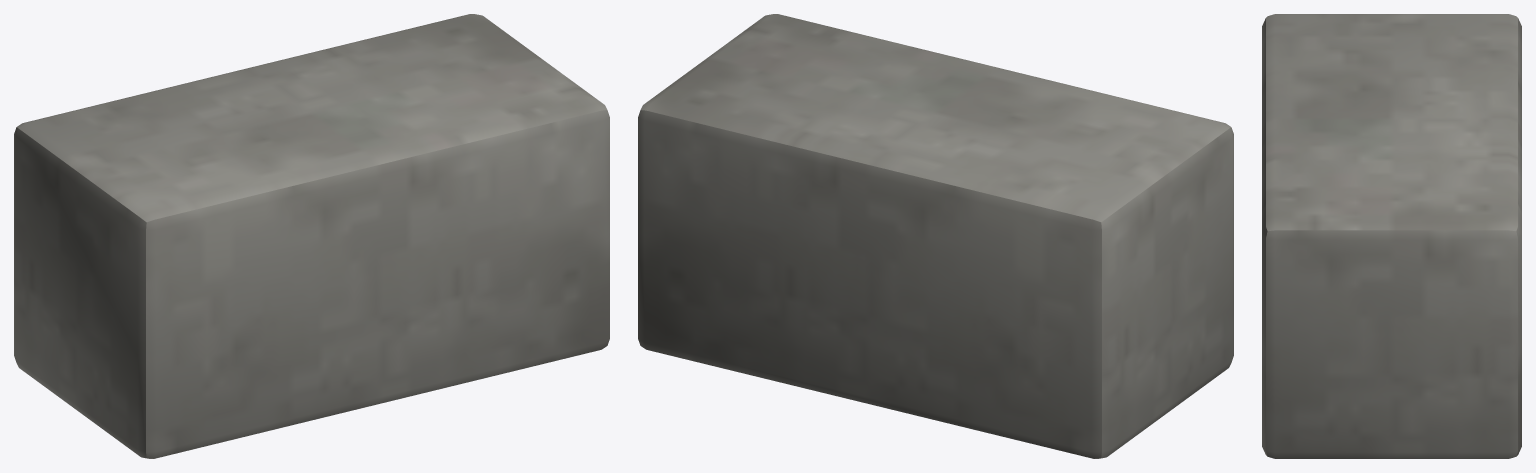
Rendered from PAV-BLQ-003_lod1.glb.
3 views of the same model, side by side, from view 1: azimuth 30°, elevation 25°; view 2: azimuth 150°, elevation 25°; view 3: azimuth 270°, elevation 25° (orthographic). The views are drawn at different scales.
Parts seen in each view (by area): view 1: PAV-BLQ-003_peca; view 2: PAV-BLQ-003_peca; view 3: PAV-BLQ-003_peca.
Boxes of the visible parts, left/top/right/bottom form: PAV-BLQ-003_peca: left=14, top=14, right=609, bottom=458; PAV-BLQ-003_peca: left=638, top=14, right=1233, bottom=458; PAV-BLQ-003_peca: left=1262, top=14, right=1521, bottom=458.
Bounding box in the file's own units: 0.2 × 0.1 × 0.1.
Materials: 1 (1 with a texture image).
